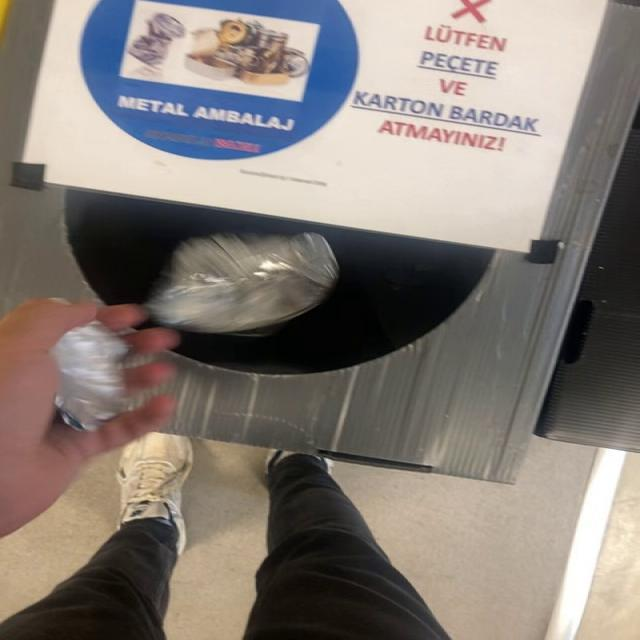Bin: (1, 0, 640, 482)
Metal: (145, 233, 339, 334)
